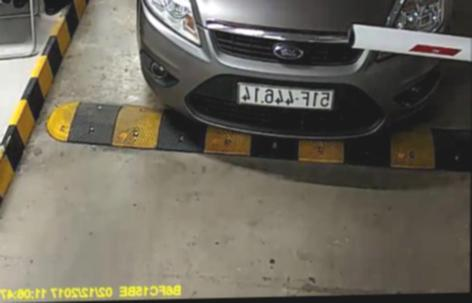License_Plate: (231, 81, 339, 113)
